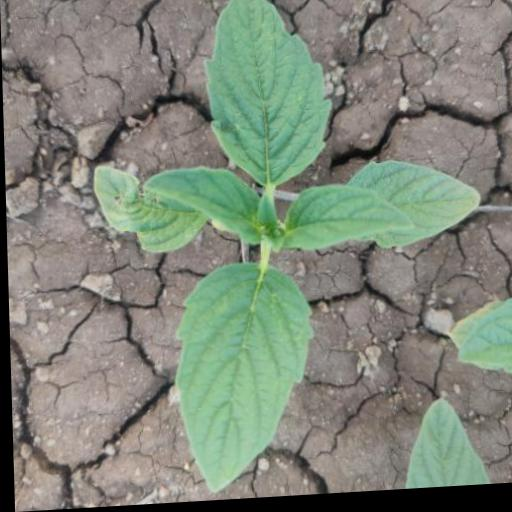crop: (140, 0, 488, 499)
